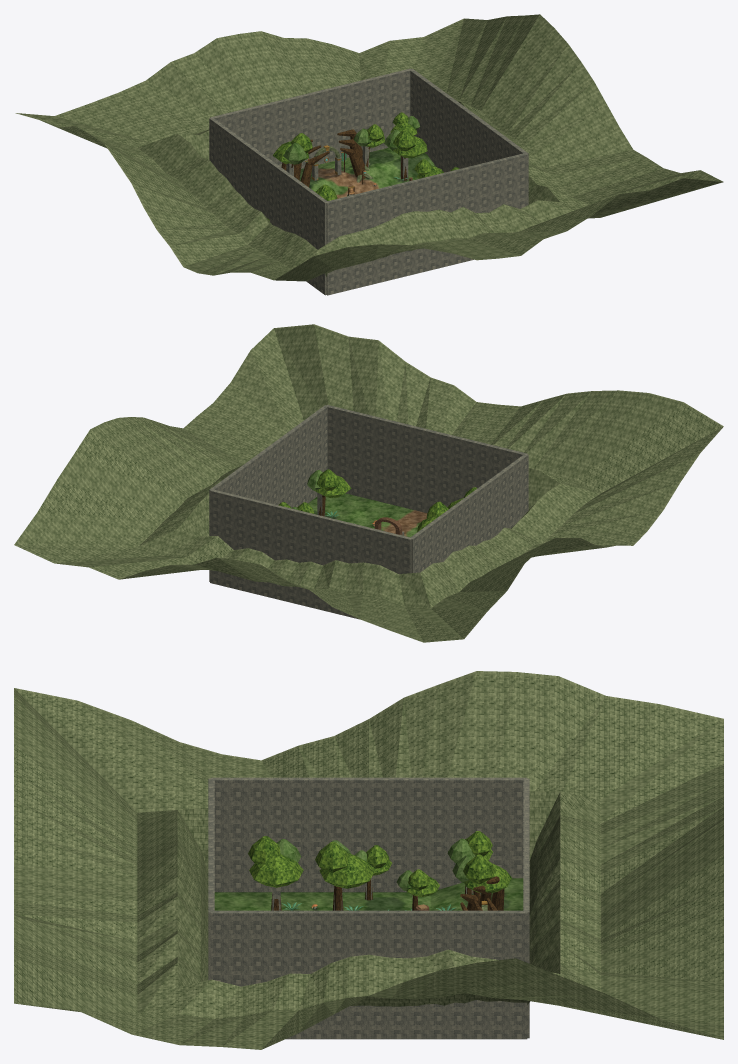
The model's file is RootChoir-3a932f444c0e.glb.
3 views of the same model, one above another, from view 1: azimuth 30°, elevation 25°; view 2: azimuth 150°, elevation 25°; view 3: azimuth 270°, elevation 25° (orthographic). The views are drawn at different scales.
Visible parts, largest first — view 1: Rim, C_Solids, Set, Terrain; view 2: Rim, C_Solids, Terrain, Set; view 3: Rim, C_Solids, Set, Terrain.
Part boxes in pixels (x1,y1,x2,y2): Rim: (15, 14, 723, 281); C_Solids: (209, 68, 528, 295); Set: (267, 112, 459, 220); Terrain: (299, 147, 435, 198); Rim: (14, 324, 723, 642); C_Solids: (209, 405, 528, 619); Terrain: (308, 493, 427, 537); Set: (278, 469, 476, 535); Rim: (14, 671, 723, 1049); C_Solids: (208, 777, 529, 1039); Set: (248, 831, 511, 910); Terrain: (214, 878, 523, 910).
Size of the model in its own units: 92 by 23.32 by 92.
Materials: 12 (12 with a texture image).
